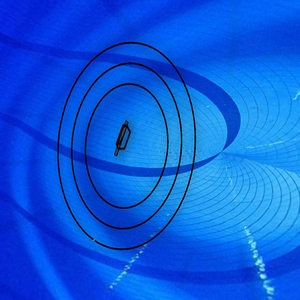circle: (56, 40, 209, 257)
submarine: (108, 115, 142, 164)
